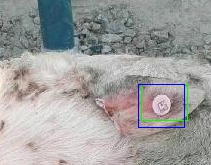text: (141, 84, 187, 120)
